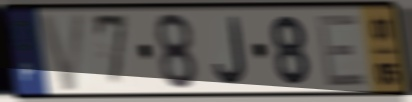7: (91, 11, 131, 92)
8: (152, 11, 199, 92), (270, 13, 313, 88)
E: (314, 11, 370, 89)
J: (212, 15, 250, 88)
V: (36, 11, 90, 94)
